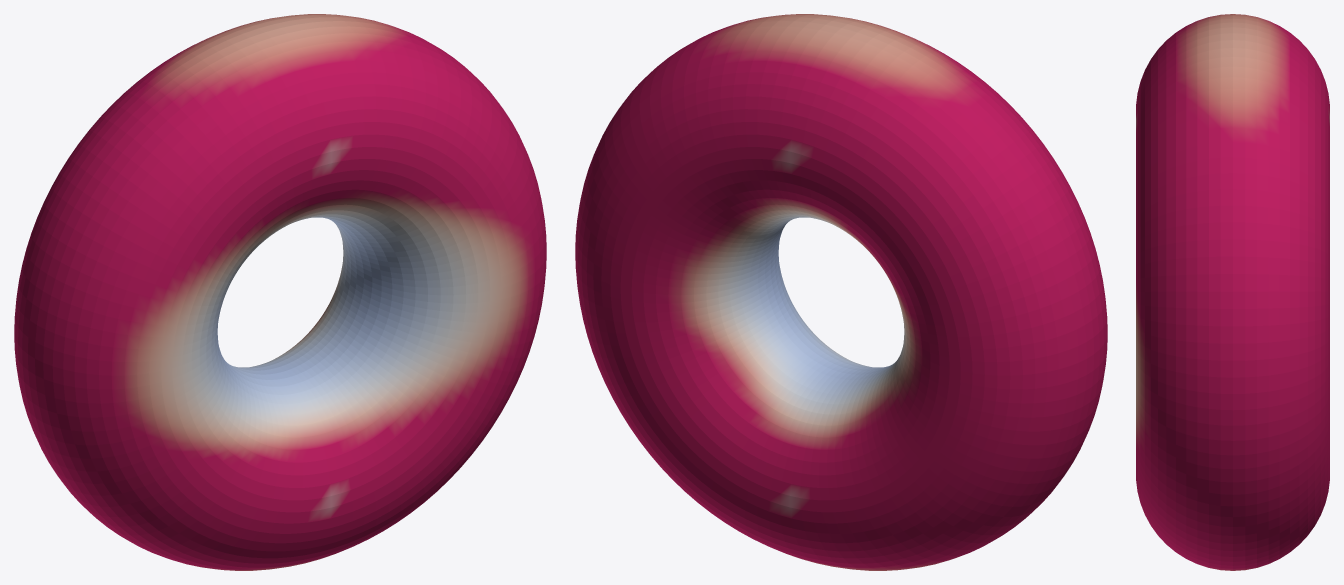
3 views of the same model, side by side, from view 1: azimuth 30°, elevation 25°; view 2: azimuth 150°, elevation 25°; view 3: azimuth 270°, elevation 25° (orthographic). The views are drawn at different scales.
Visible parts, largest first — view 1: world; view 2: world; view 3: world.
Boxes of the visible parts, x1,y1,x2,y2 form: world: (14, 14, 546, 570); world: (575, 14, 1107, 570); world: (1136, 14, 1329, 570).
Size of the model in its own units: 28.67 by 28.67 by 9.98.
